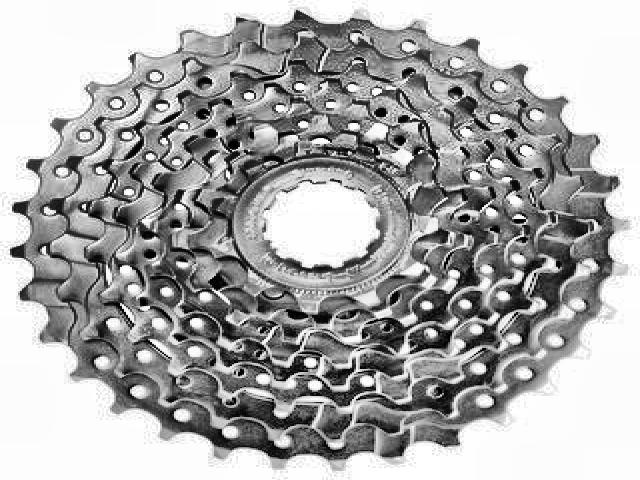cassette: (8, 7, 628, 471)
